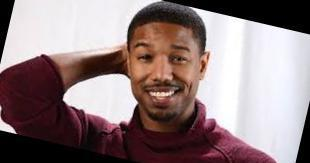Sober: (135, 24, 197, 114)
